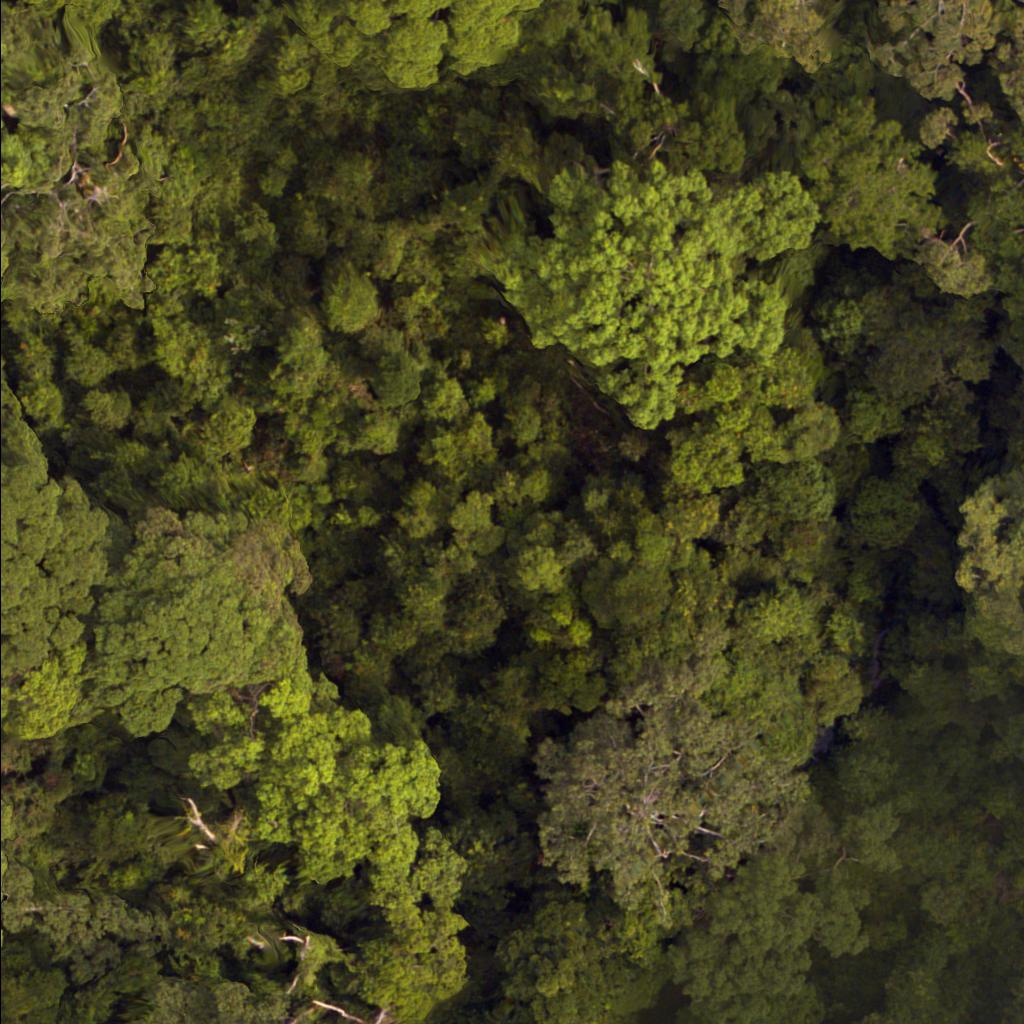crown: (506, 162, 839, 423), (506, 675, 803, 935), (674, 757, 910, 1005), (83, 514, 321, 747), (0, 15, 162, 354), (183, 679, 442, 878), (0, 434, 125, 750), (505, 900, 672, 1023), (364, 862, 476, 1023), (948, 438, 1023, 668), (165, 956, 378, 1023)
